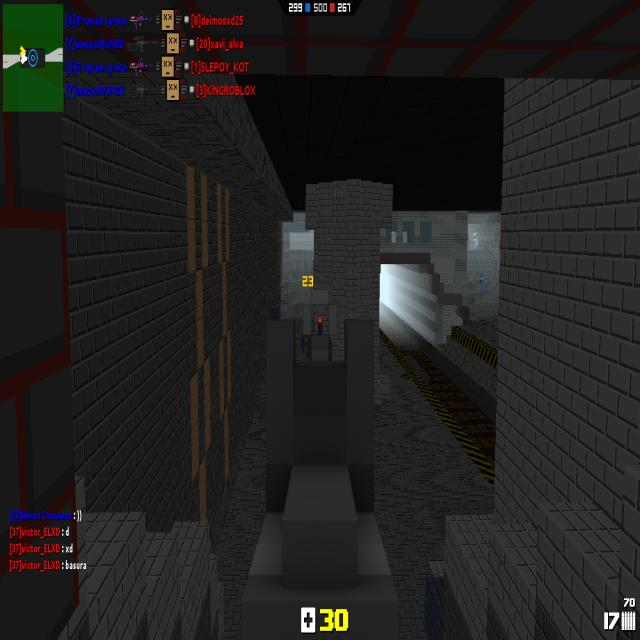enemy: (478, 273, 485, 293), (472, 232, 479, 251), (466, 230, 471, 250)
